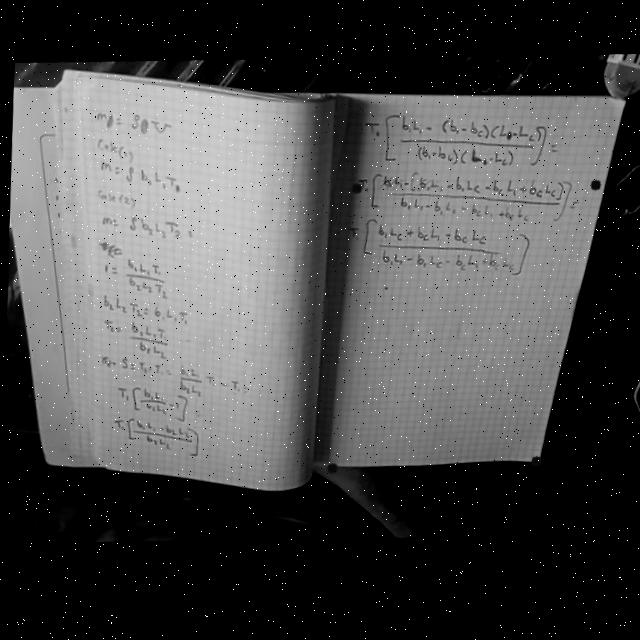document: (9, 72, 625, 490)
